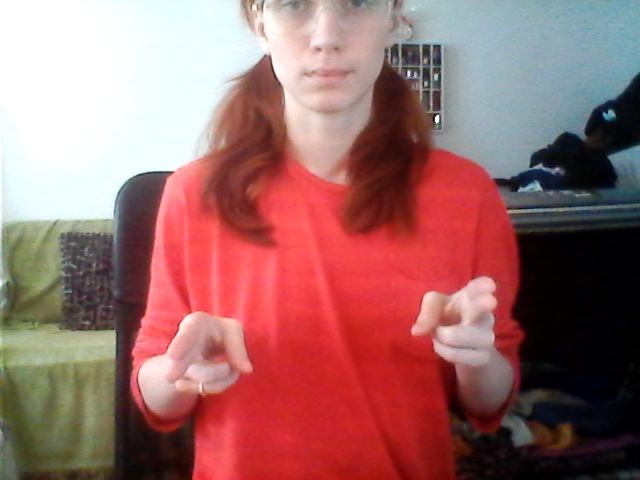ako: (162, 268, 503, 418)
